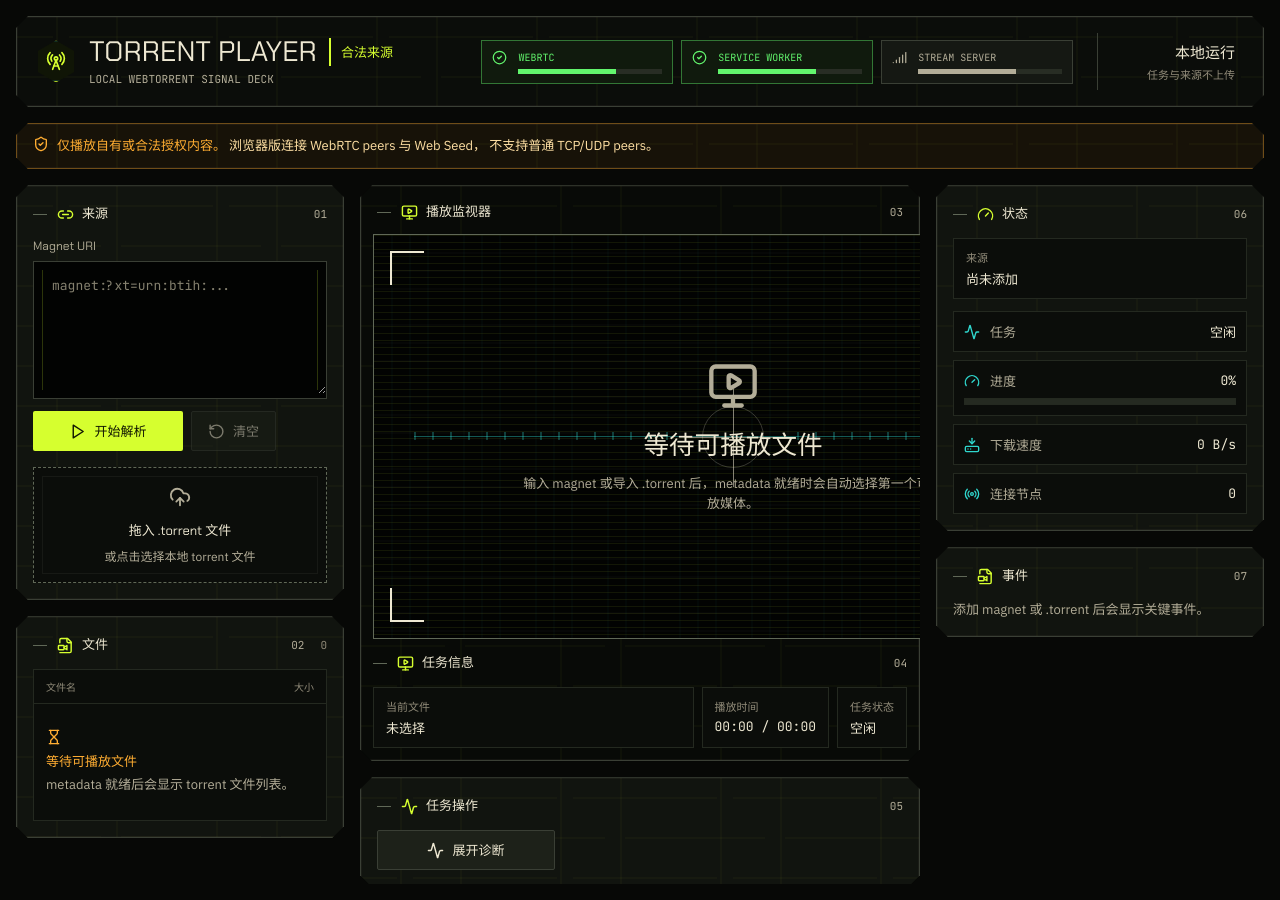
Test: App › expands diagnostics with a linked disclosure control
Click the button "展开诊断": (466, 850) [377,830,555,870]
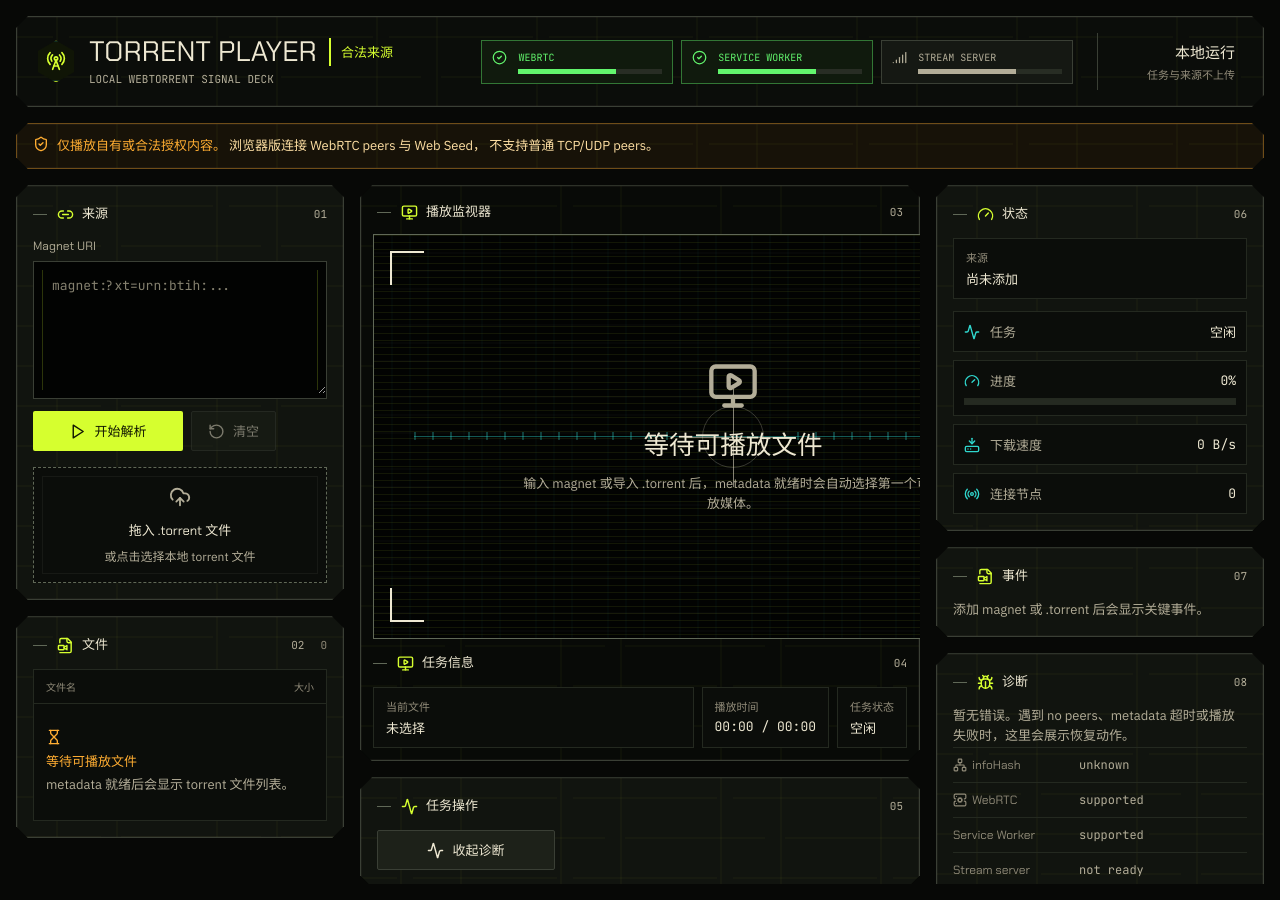
expect the button "收起诊断" is expanded: met, box [377,830,555,870]
expect the heading "诊断" is shown: met, box [1002,676,1028,689]
